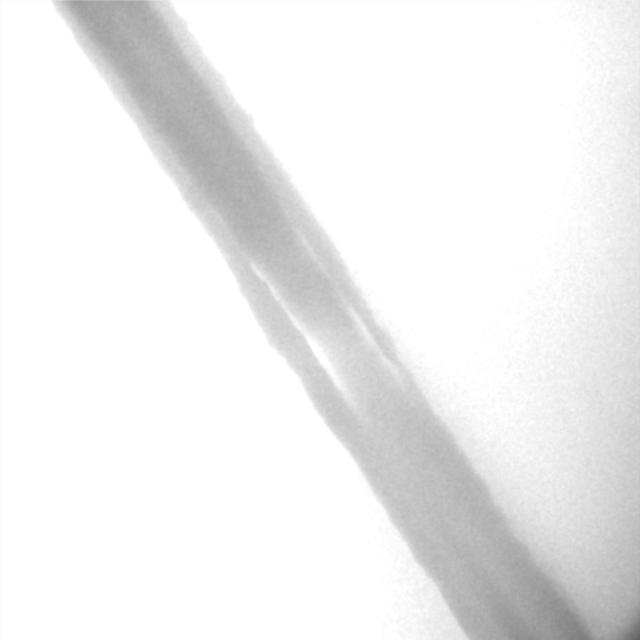unfused: (255, 227, 397, 403)
